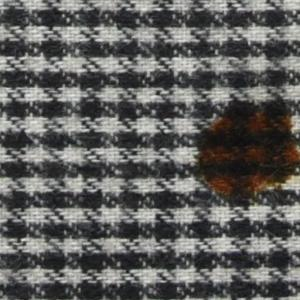Oil Stain: (190, 96, 300, 207)
